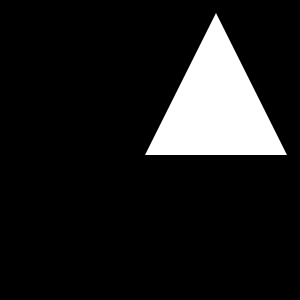triangle: (145, 13, 287, 155)
